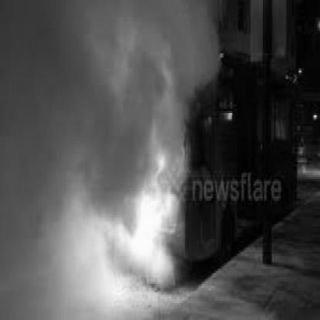Fire: (117, 139, 179, 280)
